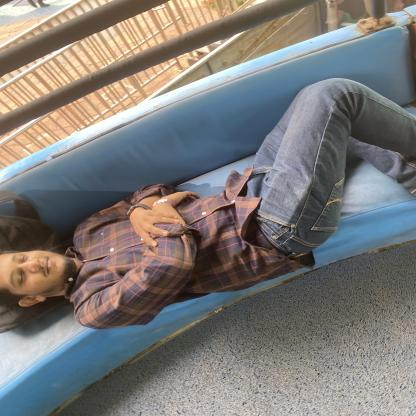hand: (0, 232, 98, 306)
leg: (104, 177, 205, 249)
